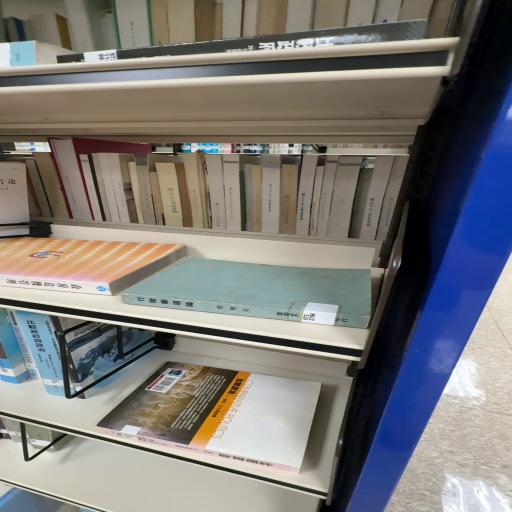flat: (97, 362, 321, 473), (122, 256, 372, 328), (57, 19, 426, 63), (0, 238, 186, 296)
